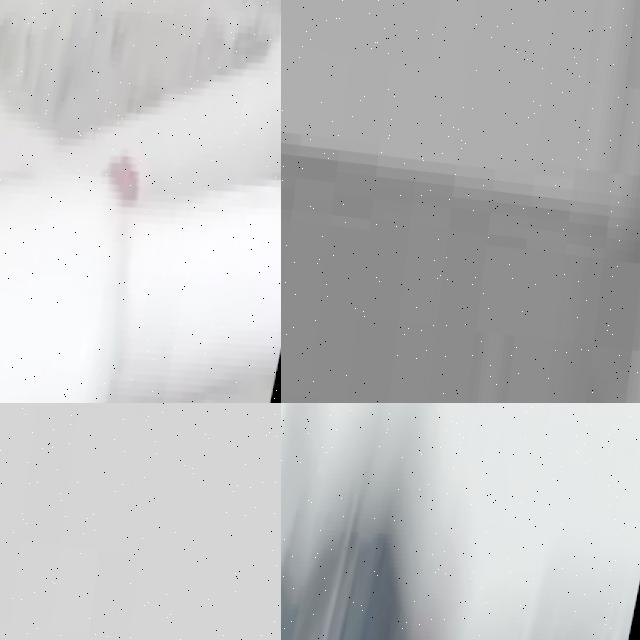drone: (0, 0, 281, 403), (281, 403, 640, 640)
